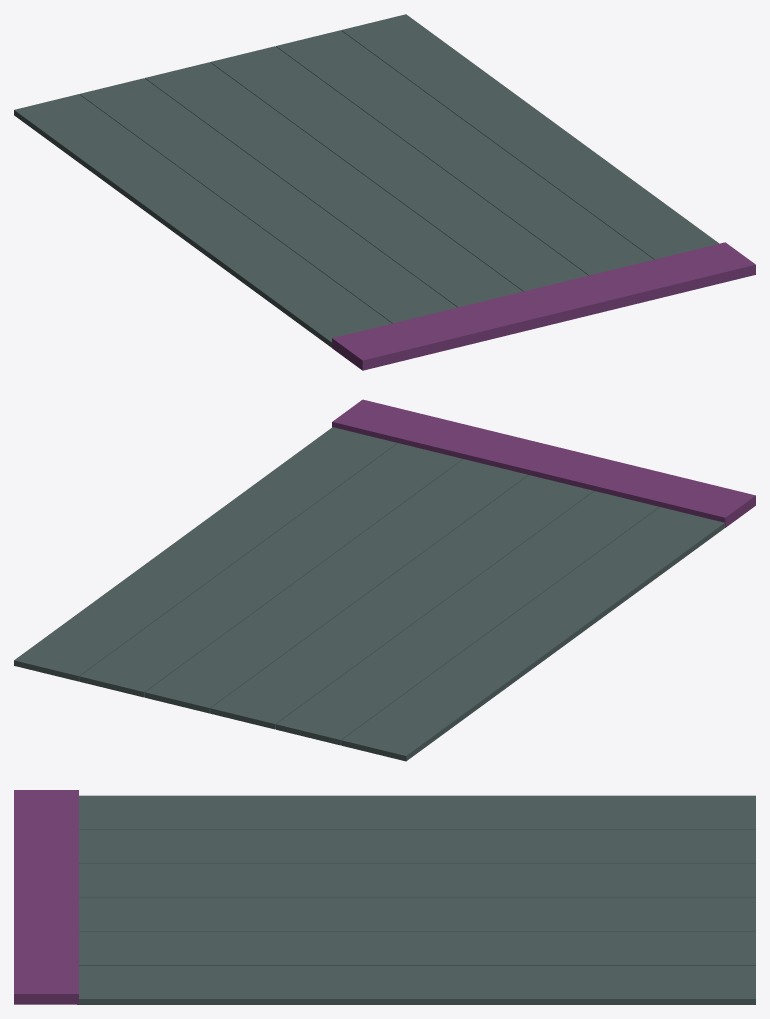
Rendered from floor_test.glb.
The picture shows the model from 3 angles, top to bottom: view 1: azimuth 30°, elevation 25°; view 2: azimuth 150°, elevation 25°; view 3: azimuth 270°, elevation 25°; orthographic projection. The views are drawn at different scales.
Visible parts, largest first — view 1: Floor; view 2: Floor; view 3: Floor.
Part boxes in pixels (x1,y1,x2,y2): Floor: [14, 14, 755, 370]; Floor: [14, 399, 755, 761]; Floor: [14, 790, 755, 1004].
Size of the model in its own units: 5.08 by 0.1297 by 7.81.
